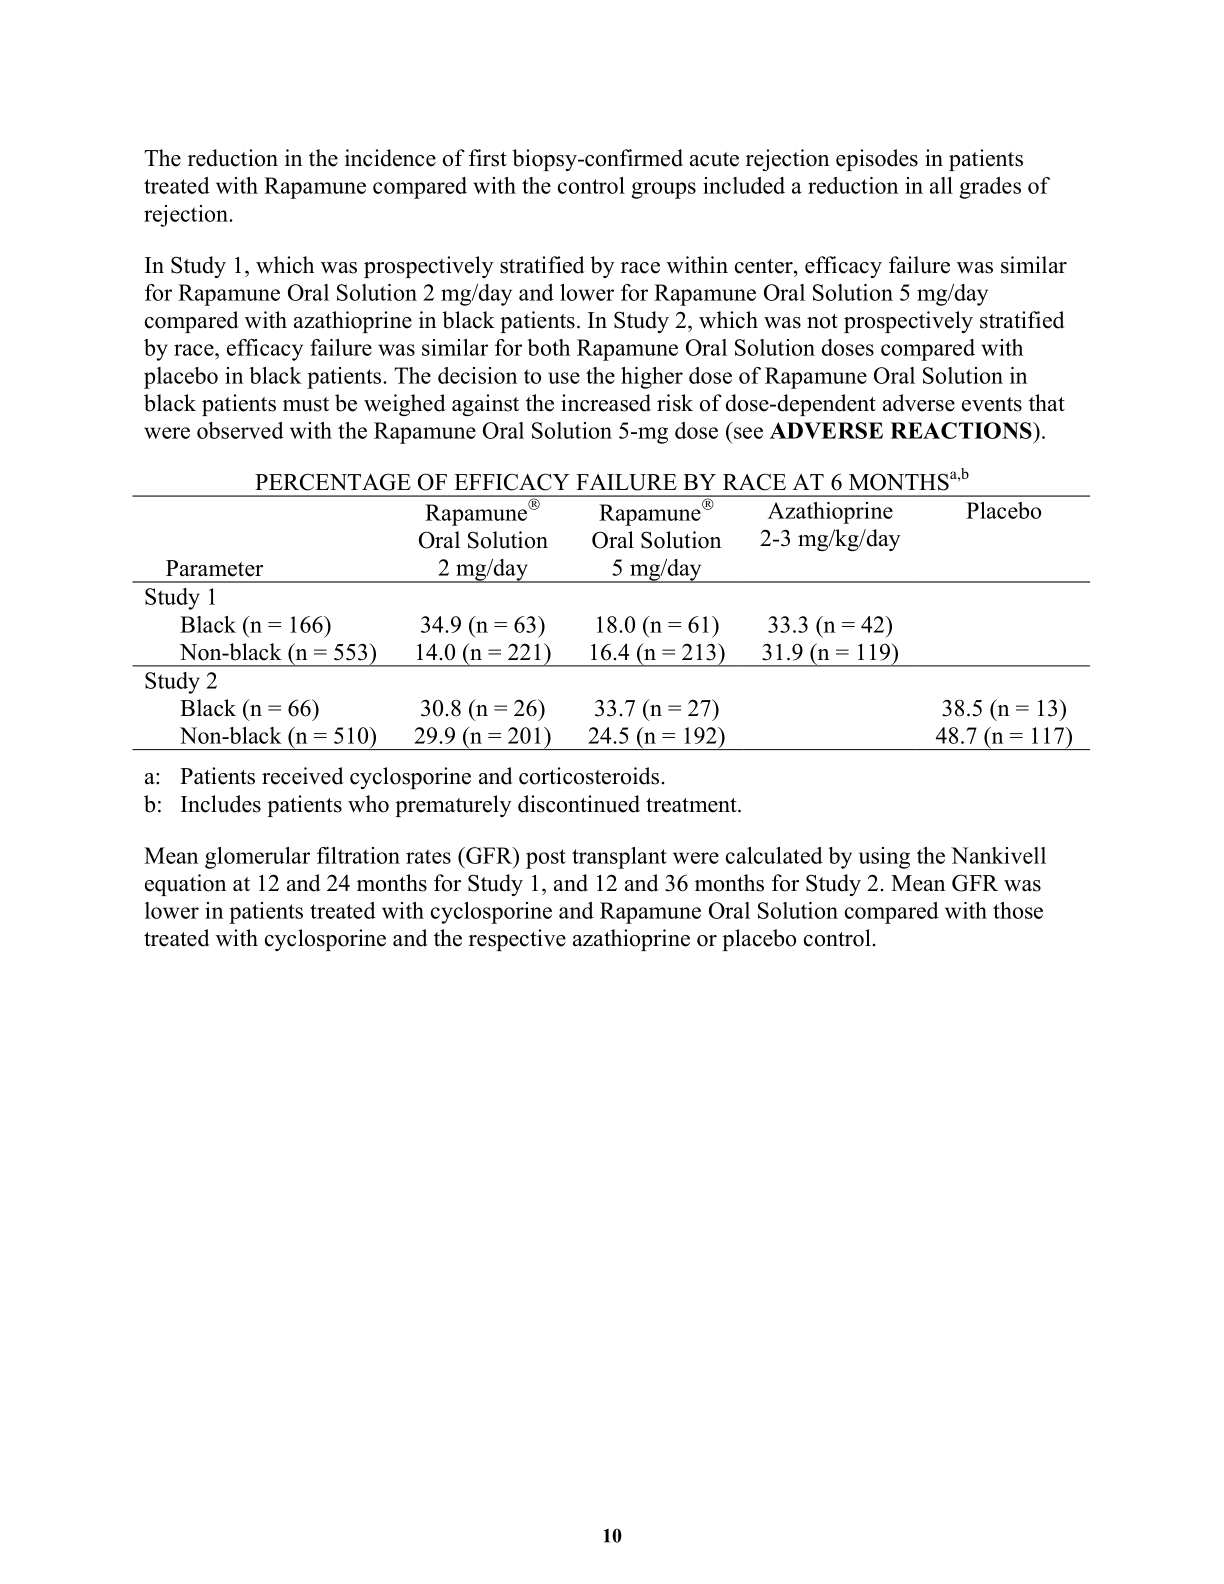partial_lined: (132, 492, 1092, 751)
